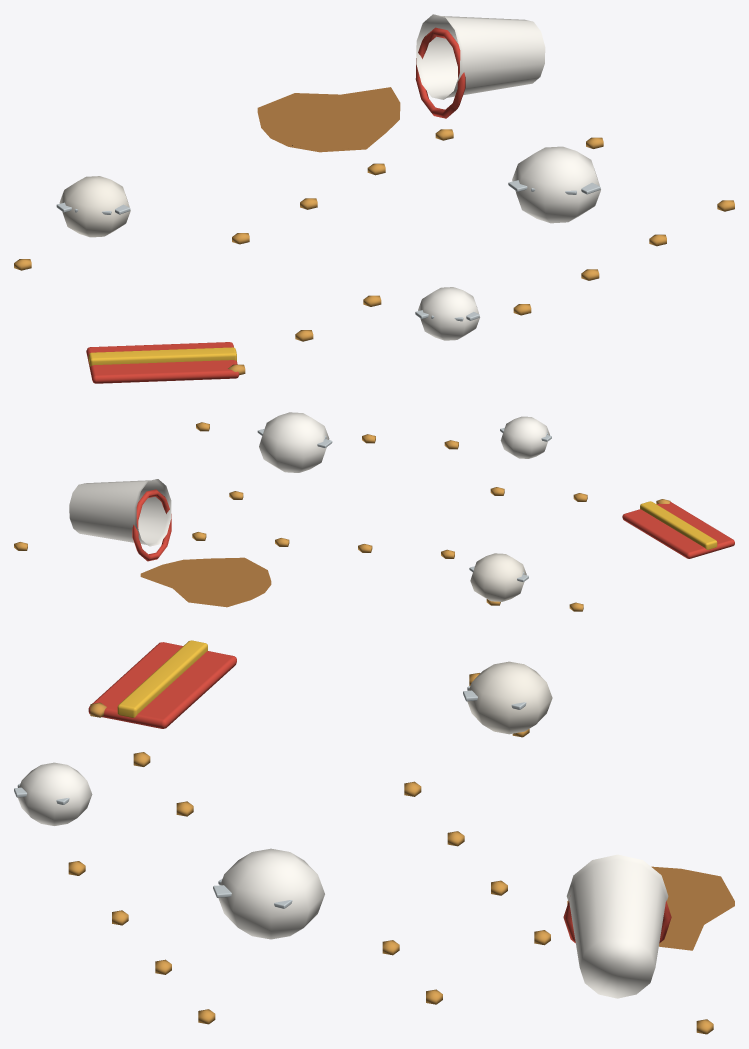
The model's file is staff-dirt-b.fbx.
The picture shows the model from 3 angles, top to bottom: view 1: azimuth 30°, elevation 25°; view 2: azimuth 150°, elevation 25°; view 3: azimuth 270°, elevation 25°; orthographic projection. The views are drawn at different scales.
Parts seen in each view (by area): view 1: Body; view 2: Body; view 3: Body.
Boxes of the visible parts, <box> form: Body: <box>14,14,734,383</box>; Body: <box>14,412,734,611</box>; Body: <box>14,640,734,1034</box>.
Bounding box in the file's own units: 0.8481 × 0.1155 × 0.6658.
